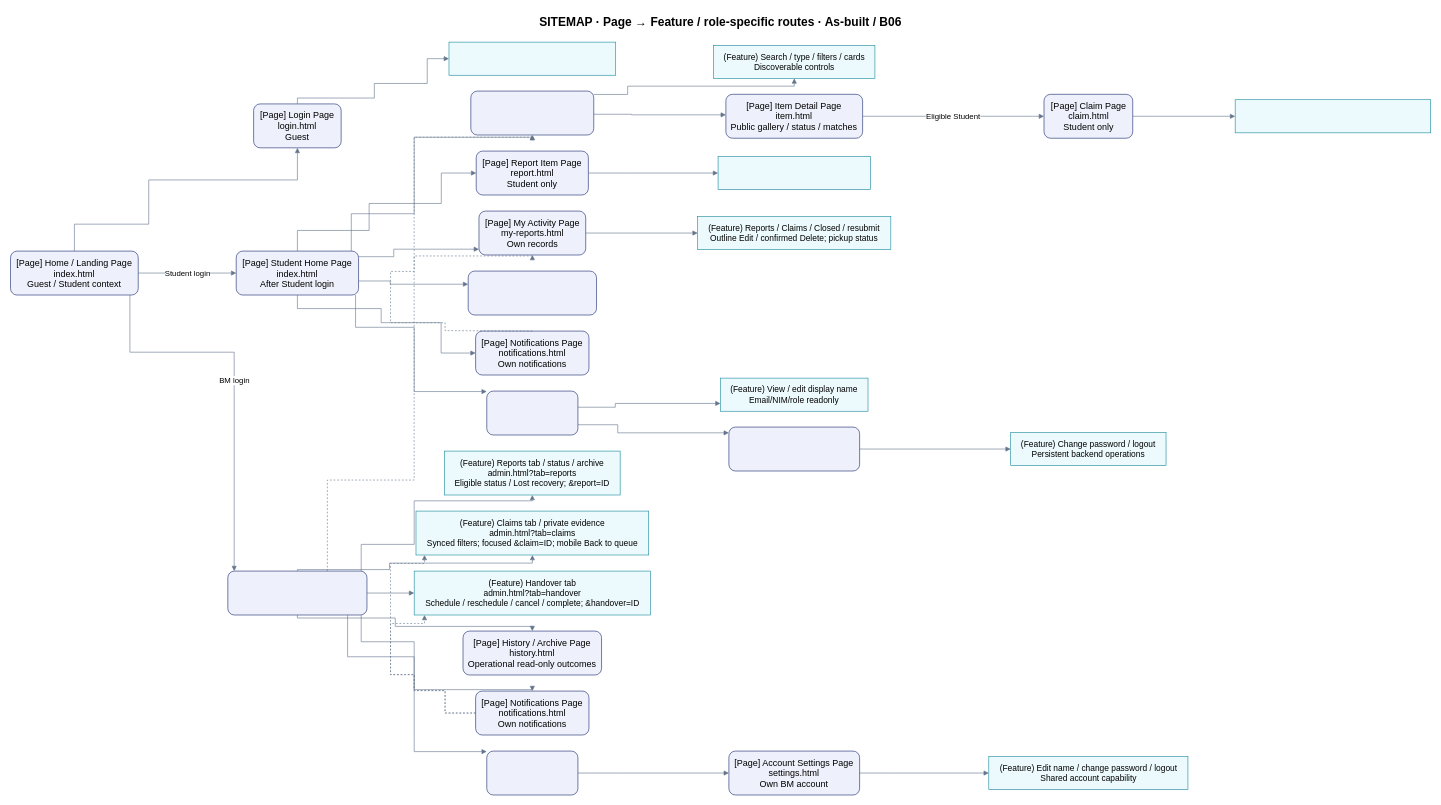
Image size: 1441x805. Some labels were removed from this diagram. The shapes that lost their labels are listed below. From the top down, each one's centre as x and y in pixels, then its label:
point (532, 58): (Feature) Email + password / validation Credential authentication
point (532, 112): [Page] Explore Page browse.html Authenticated public reports
point (1333, 116): (Feature) Answer / own Lost link / private proof Explicit submit / resubmit
point (793, 173): (Feature) Lost / Found / eligible edit Public media vs private clue/proof
point (532, 292): [Page] Campus History Page history.html Read-only
point (532, 412): [Page] Profile Page profile.html Own account
point (794, 448): [Page] Account Settings Page settings.html Own account
point (297, 592): [Page] BM Review Queue Page admin.html After BM login
point (532, 772): [Page] Profile Page profile.html Own BM account
